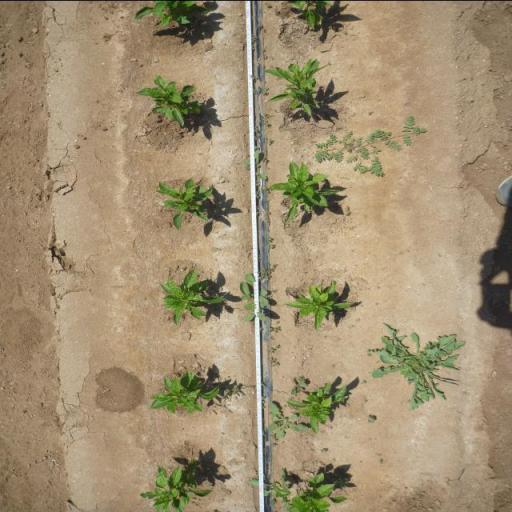plant: (138, 454, 214, 512), (271, 162, 340, 223), (132, 75, 204, 129), (156, 270, 228, 324), (282, 281, 356, 330), (268, 61, 334, 114), (284, 379, 349, 432), (147, 369, 221, 415), (154, 175, 216, 229), (130, 0, 216, 27), (289, 471, 336, 512), (286, 0, 336, 30)
weed: (364, 320, 470, 412), (314, 113, 429, 180), (262, 400, 309, 439), (250, 467, 281, 510), (243, 148, 267, 180), (240, 273, 270, 296), (242, 295, 268, 321), (220, 383, 243, 399), (290, 376, 308, 394), (335, 476, 349, 490), (268, 432, 278, 448), (268, 356, 280, 366), (262, 267, 276, 274), (257, 274, 272, 280), (367, 414, 376, 424), (261, 185, 271, 193), (263, 119, 272, 127), (252, 33, 258, 44), (253, 124, 260, 133), (261, 86, 269, 93), (273, 326, 282, 332), (261, 113, 273, 117), (266, 326, 274, 332), (250, 74, 257, 80), (266, 236, 273, 242), (262, 157, 270, 162), (266, 137, 272, 143), (268, 347, 274, 353), (260, 380, 266, 386), (256, 190, 260, 198), (270, 262, 278, 266), (320, 448, 328, 452), (275, 344, 280, 349), (269, 244, 275, 248)
